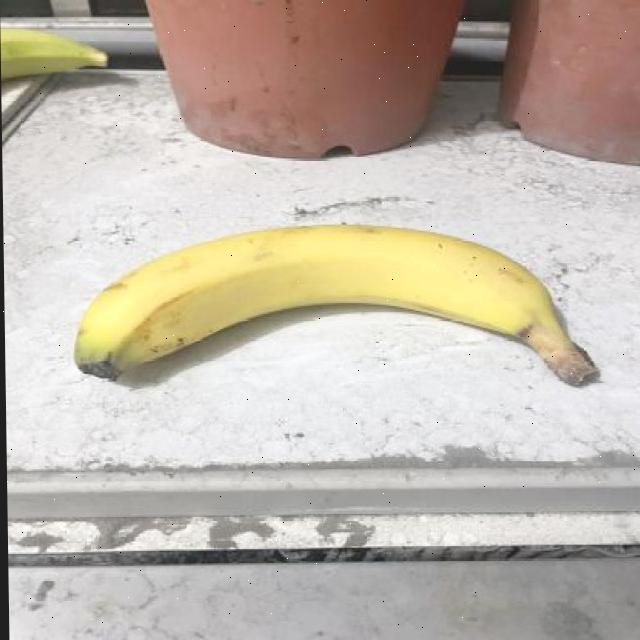banana: (71, 221, 596, 387)
